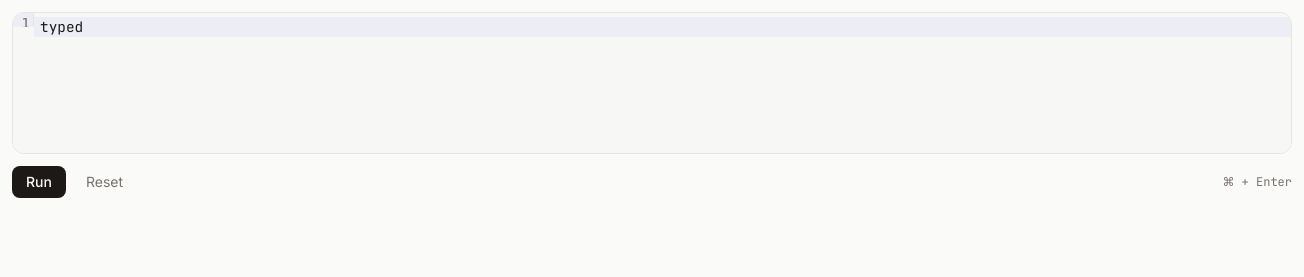
CodeRunner busy state › shows Running…, then Checking… while grading, then Run again
The width and height of the screenshot is (1304, 277).
Later steps or results of the test are not shown.
What coordinates should you click on to do the following:
click the button "Run"
I would click on:
 (39, 182)
Its box is [12, 166, 66, 198].
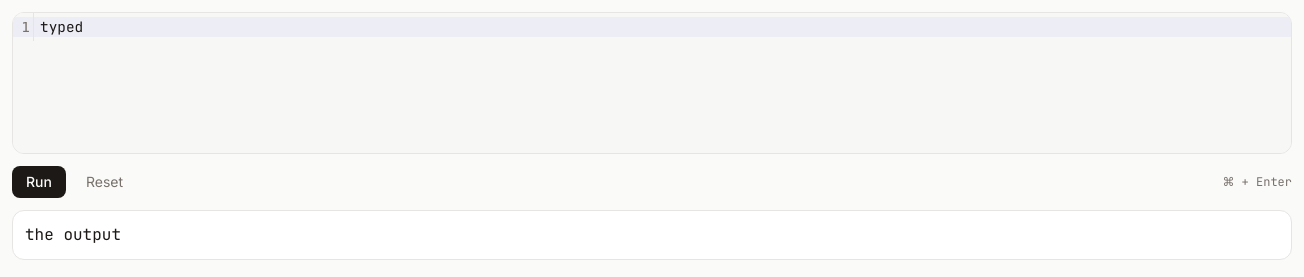
Result: the text "the output" is shown at [25, 224, 121, 245]
